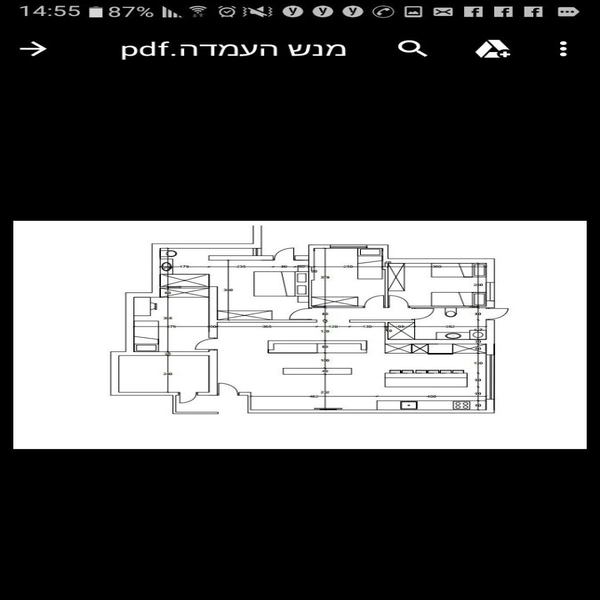door: (192, 332, 224, 356), (177, 384, 197, 407), (366, 290, 385, 314), (292, 305, 317, 322), (390, 293, 415, 310), (485, 304, 507, 322), (217, 381, 239, 397), (415, 304, 437, 319), (274, 247, 299, 259)
